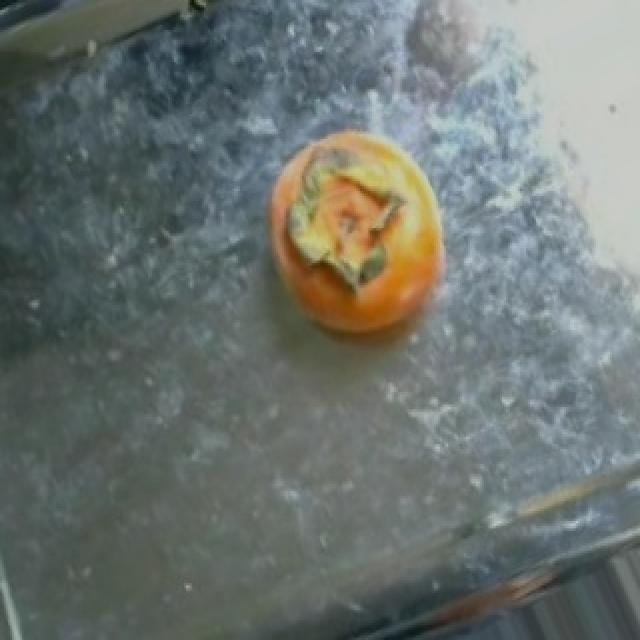Fruit: (240, 114, 476, 362), (0, 0, 220, 67)
